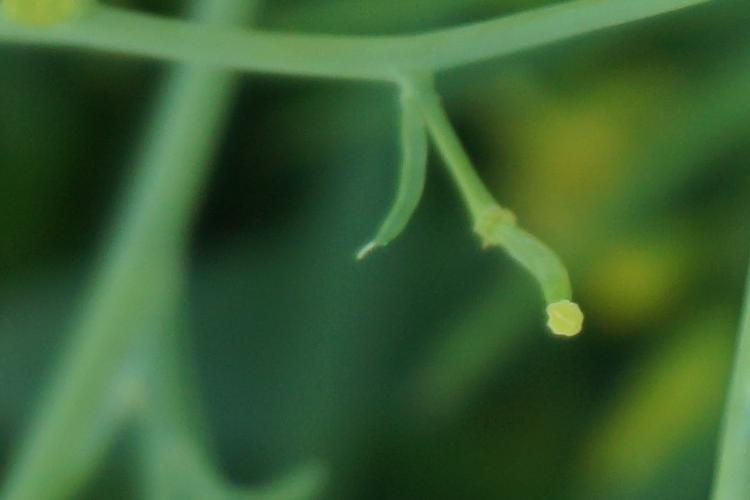pod: (456, 200, 602, 357)
